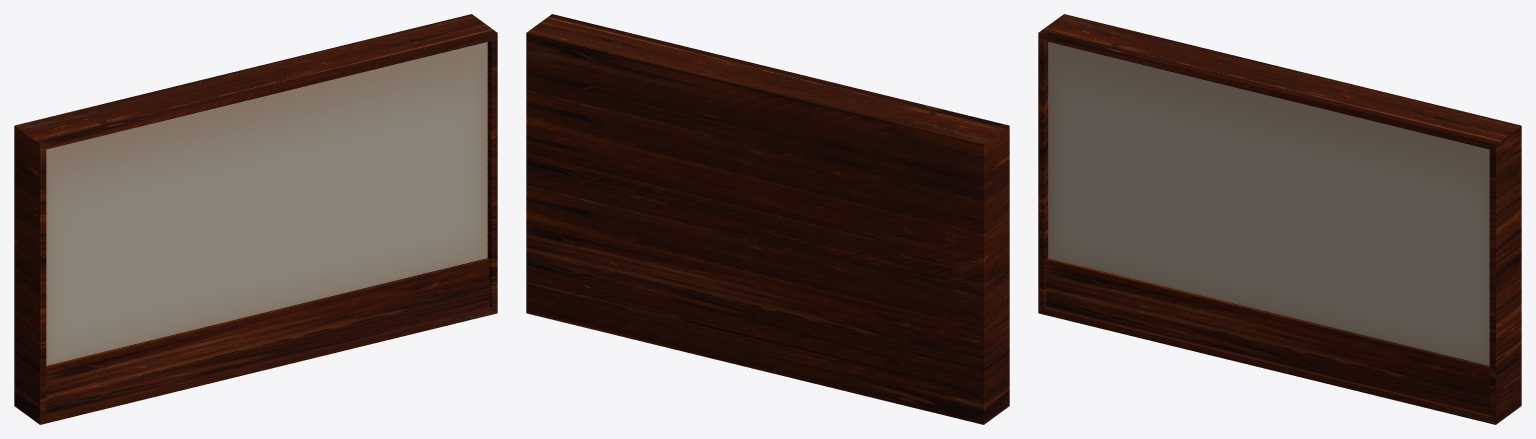
Rendered from ParedeTrasJaponesa.fbx.
The picture shows the model from 3 angles, left to right: view 1: azimuth 30°, elevation 25°; view 2: azimuth 150°, elevation 25°; view 3: azimuth 330°, elevation 25°; orthographic projection.
Parts seen in each view (by area): view 1: TremParedeTraseira; view 2: TremParedeTraseira; view 3: TremParedeTraseira.
Boxes of the visible parts, box(x1,y1,x2,y2) form: TremParedeTraseira: box(14, 14, 497, 424); TremParedeTraseira: box(526, 14, 1009, 424); TremParedeTraseira: box(1038, 14, 1521, 424).
Bounding box in the file's own units: 525 × 307 × 51.52.
